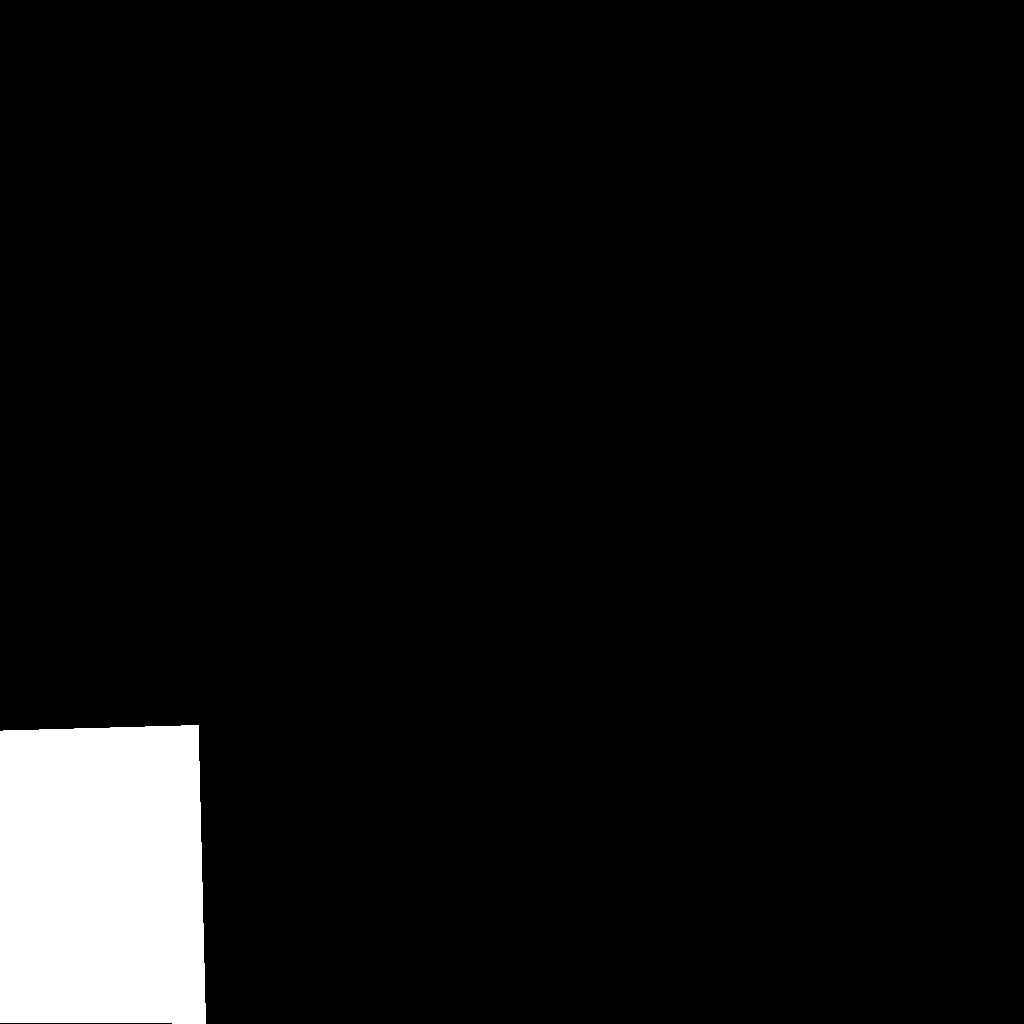building: (0, 725, 207, 1024)
